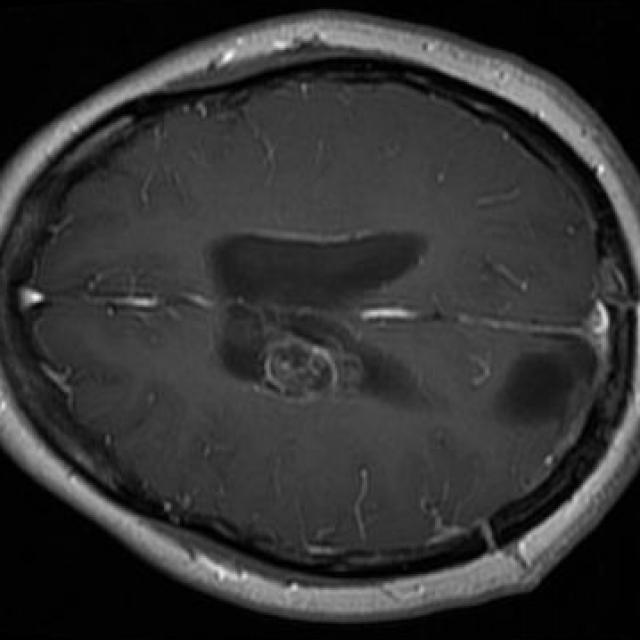glioma: (225, 305, 410, 399)
